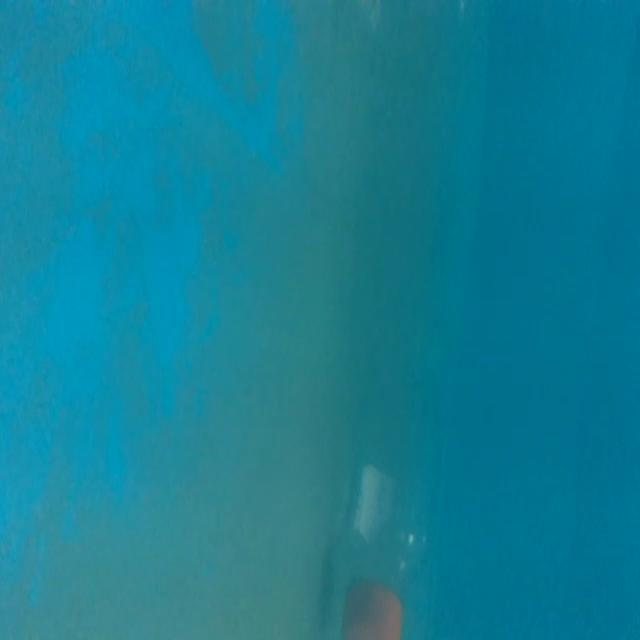plastic bottle: (334, 293, 442, 640)
